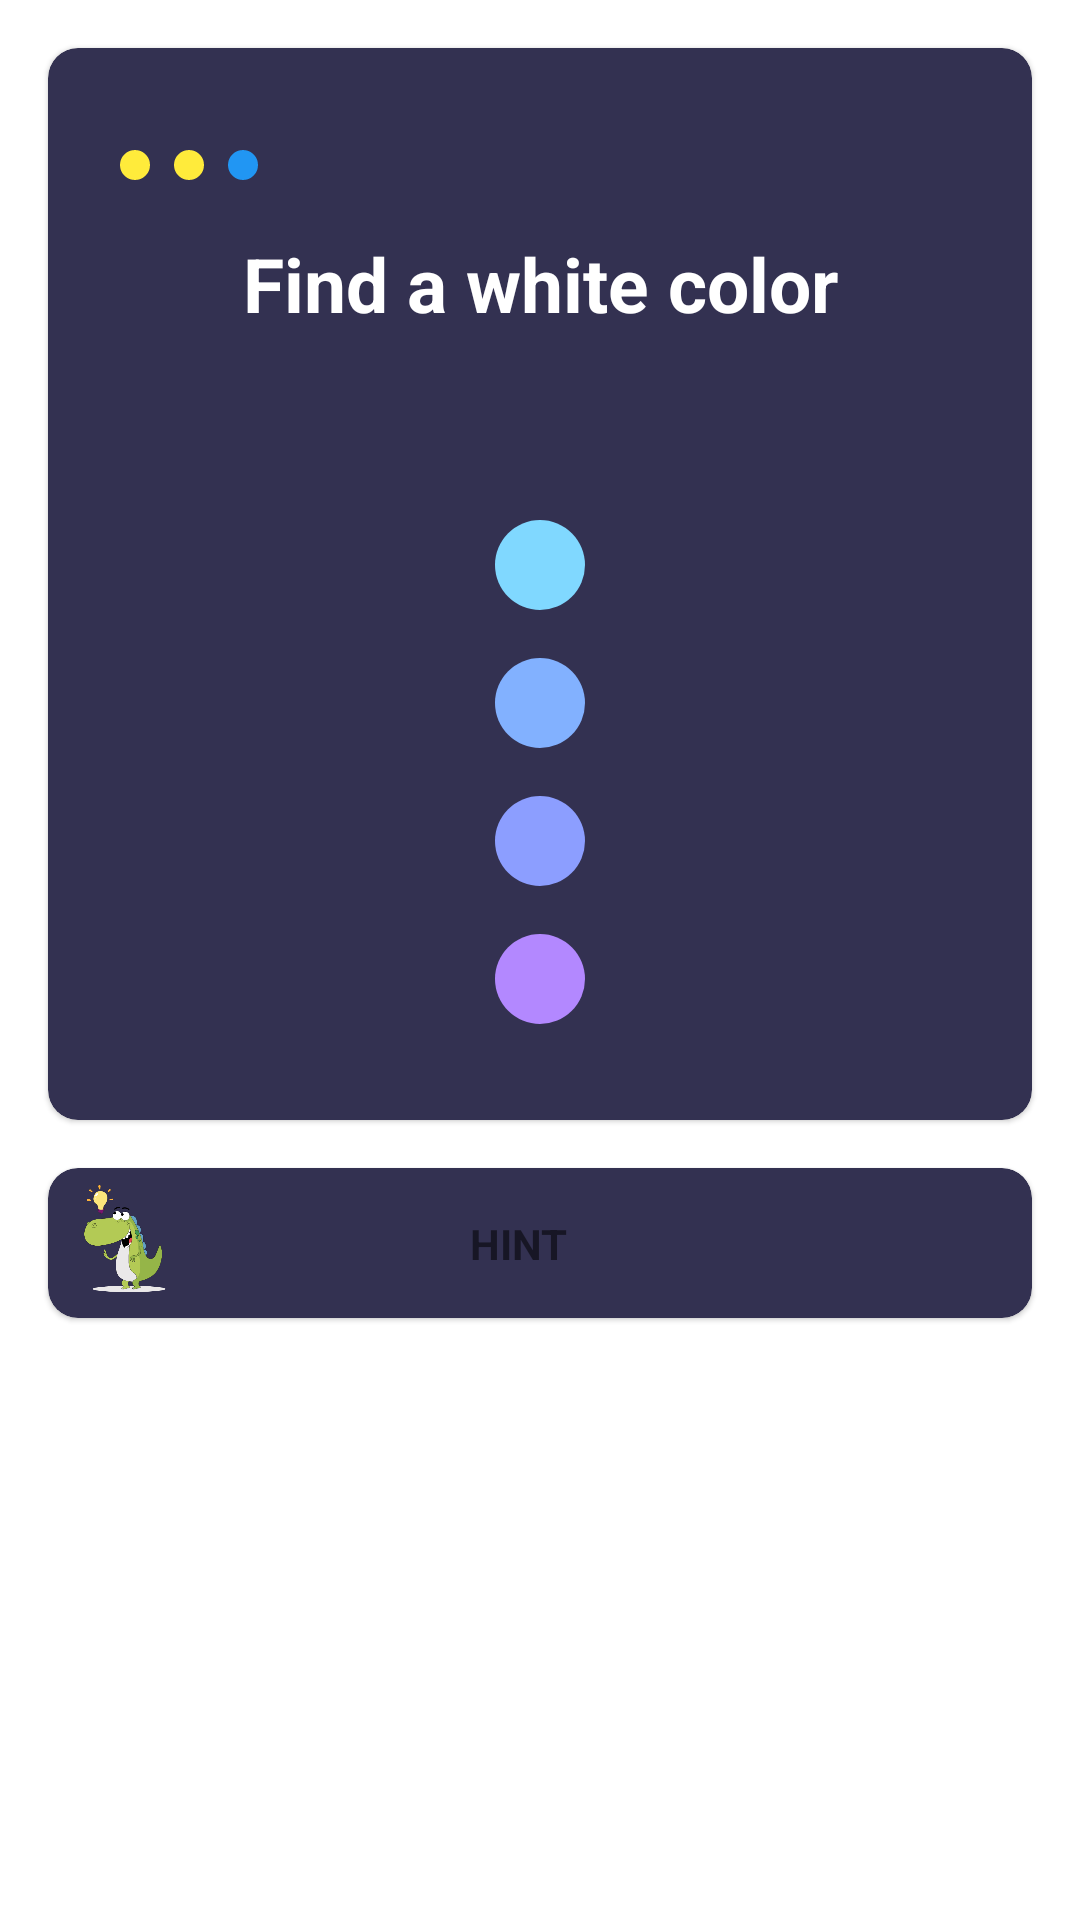

Icons on this 1080*1920 Android screen, each with the point to tap as (x=x, y=y):
idea: (x=123, y=1243)
